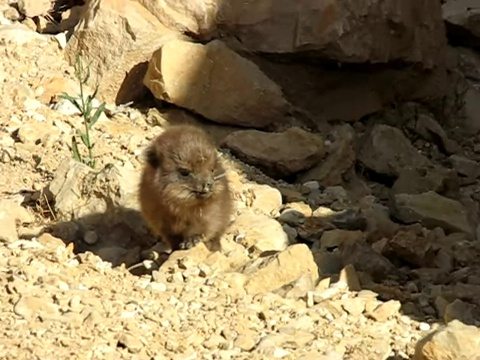Rock Hyrex: (138, 123, 231, 257)
